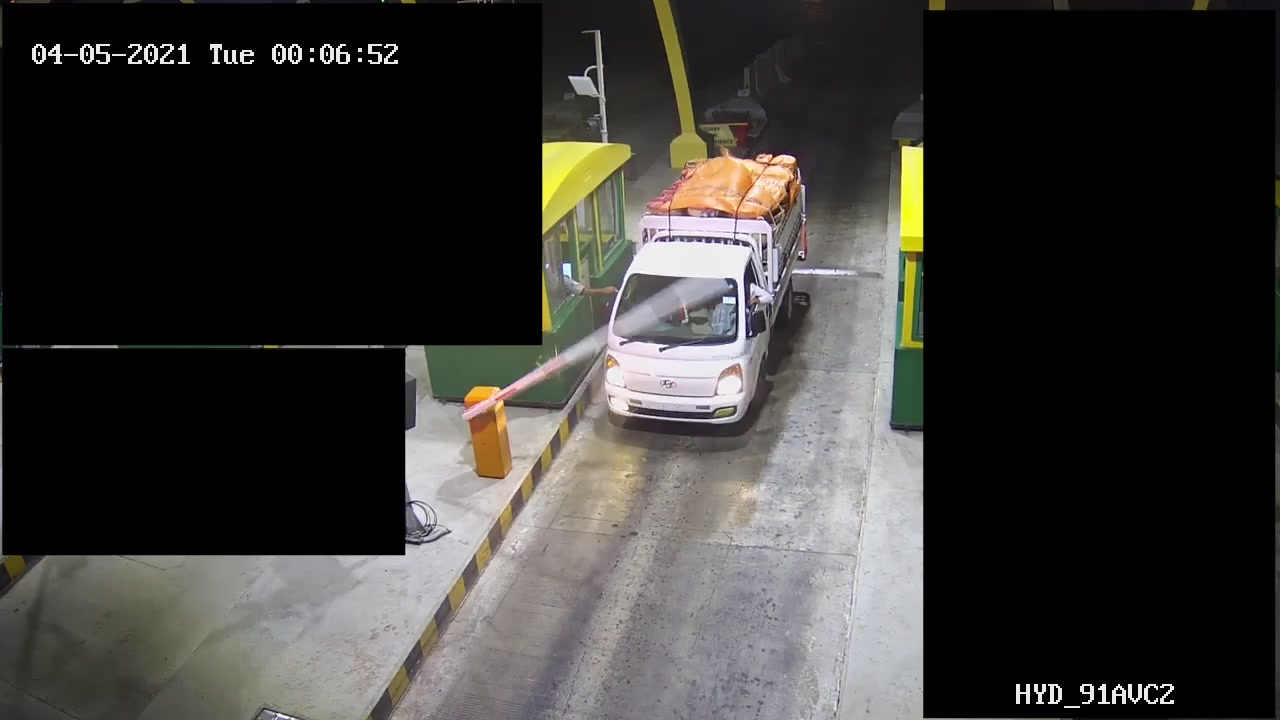F3: (600, 146, 815, 441)
